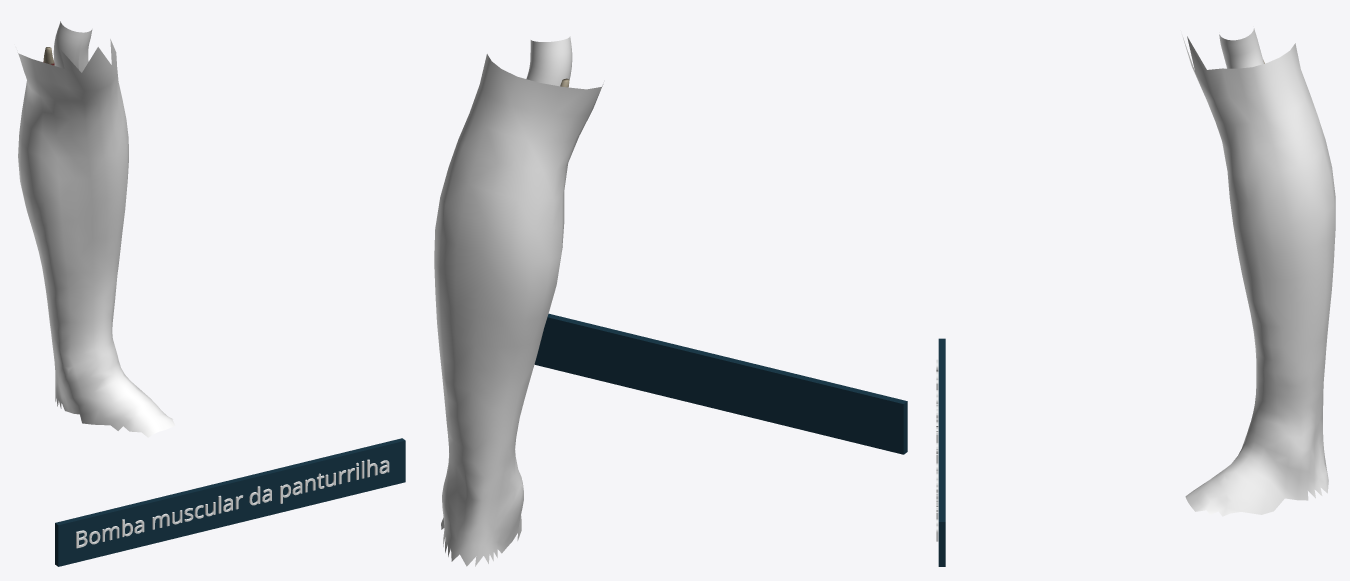
File: nivel-4.glb
3 views of the same model, side by side, from view 1: azimuth 30°, elevation 25°; view 2: azimuth 150°, elevation 25°; view 3: azimuth 270°, elevation 25° (orthographic). The views are drawn at different scales.
Visible parts, largest first — view 1: movel_1, placa_solida, texto_em_relevo, movel_2; view 2: movel_1, placa_solida, movel_2; view 3: movel_1, placa_solida, movel_2, texto_em_relevo.
Boxes of the visible parts, x1,y1,x2,y2 form: movel_1: (17, 39, 175, 437); placa_solida: (55, 438, 405, 566); texto_em_relevo: (76, 459, 389, 548); movel_2: (53, 21, 92, 72); movel_1: (434, 54, 603, 566); placa_solida: (534, 313, 907, 454); movel_2: (526, 36, 572, 86); movel_1: (1182, 35, 1335, 516); placa_solida: (938, 338, 945, 566); movel_2: (1219, 28, 1264, 68); texto_em_relevo: (936, 359, 938, 541).
Size of the model in its own units: 0.48 by 0.55 by 0.4426.
14 materials, 3 textured.
